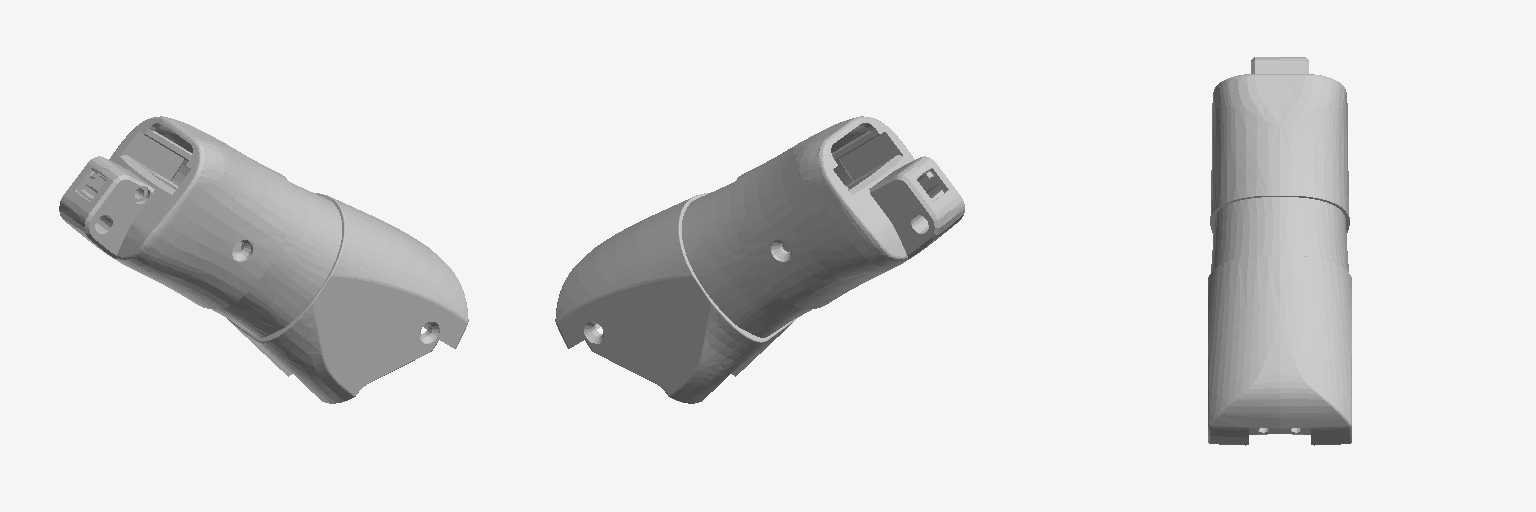
Rendered from thumb_proximal.obj.
The picture shows the model from 3 angles: view 1: azimuth 30°, elevation 25°; view 2: azimuth 150°, elevation 25°; view 3: azimuth 270°, elevation 25°; orthographic projection.
Parts seen in each view (by area): view 1: th_proximal_link; view 2: th_proximal_link; view 3: th_proximal_link.
Boxes of the visible parts, <box> form: th_proximal_link: <box>59,116,468,403</box>; th_proximal_link: <box>555,116,964,403</box>; th_proximal_link: <box>1208,57,1351,445</box>.
Bounding box in the file's own units: 0.0618 × 0.0466 × 0.021.